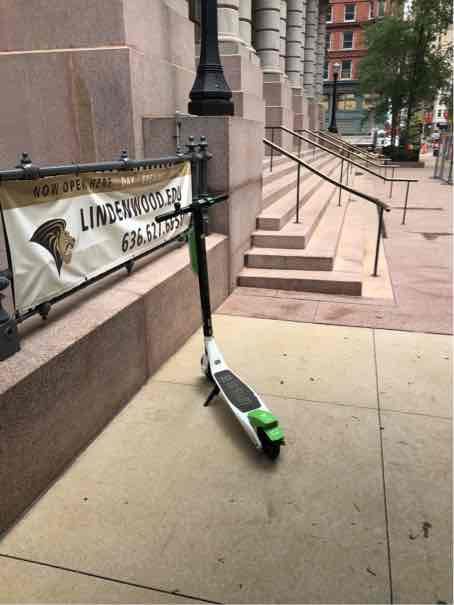scooter: (145, 194, 296, 480)
